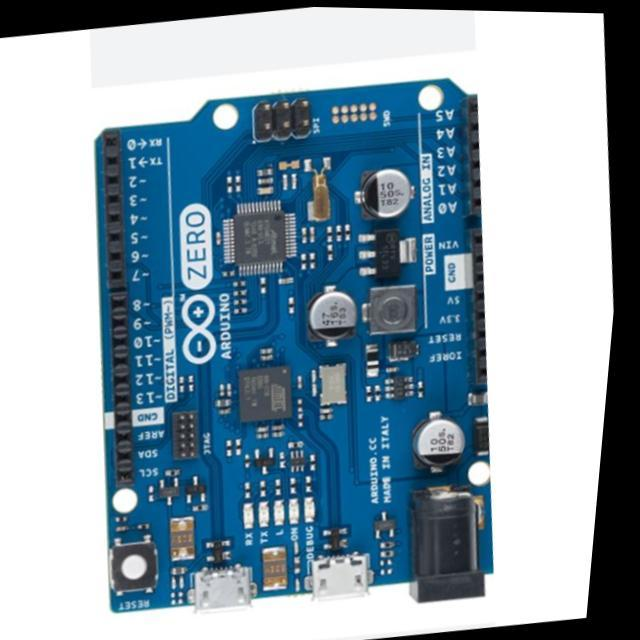Arduino-Zero: (98, 80, 493, 612)
